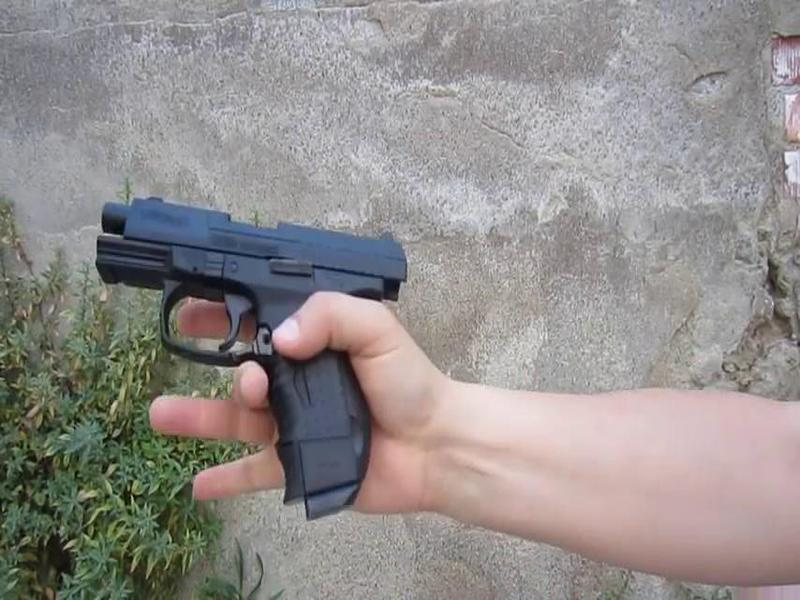Pistola: (58, 178, 434, 556)
